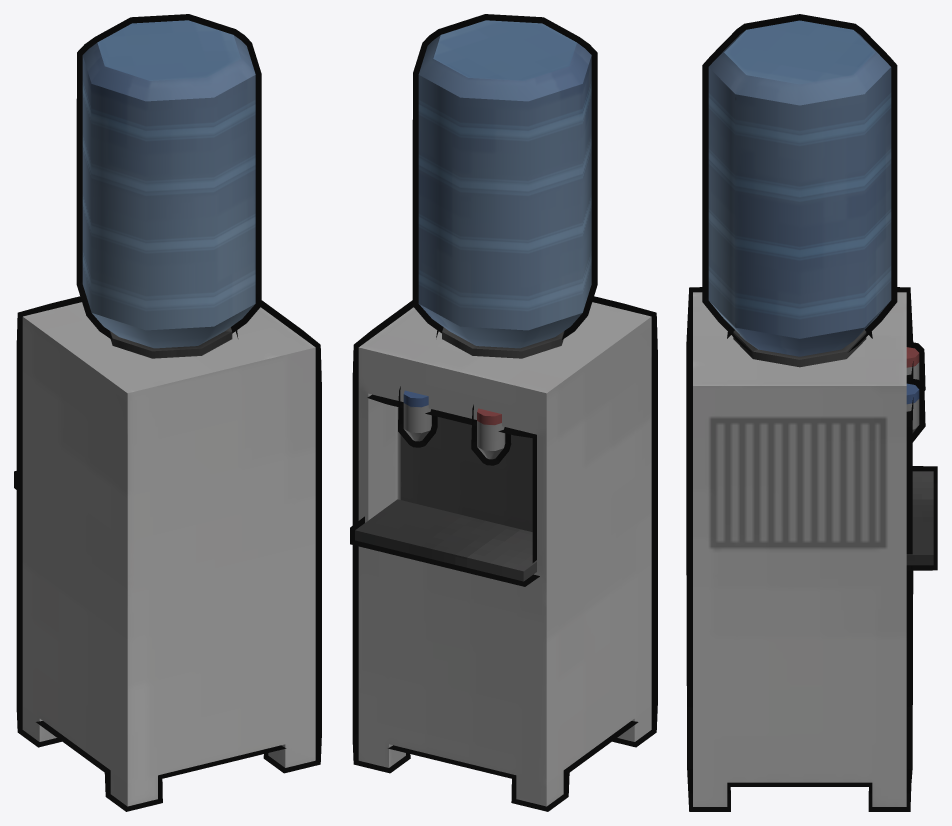
The model's file is Filtro agua.glb.
3 views of the same model, side by side, from view 1: azimuth 30°, elevation 25°; view 2: azimuth 150°, elevation 25°; view 3: azimuth 270°, elevation 25° (orthographic).
Parts seen in each view (by area): view 1: Filtro; view 2: Filtro; view 3: Filtro.
Part boxes in pixels (x1,y1,x2,y2): Filtro: (14, 14, 321, 811); Filtro: (350, 14, 657, 811); Filtro: (686, 14, 937, 811).
Bounding box in the file's own units: 0.2823 × 0.9533 × 0.3025.
2 materials, 1 textured.
